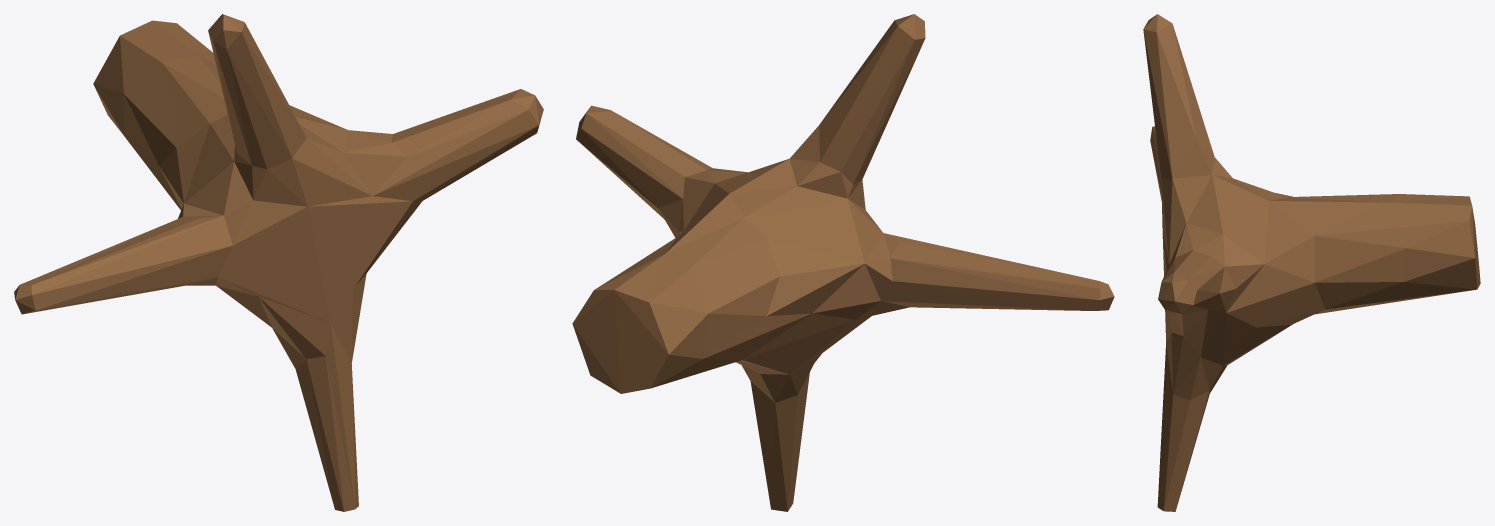
Rendered from Stemp.dae.
The picture shows the model from 3 angles, left to right: view 1: azimuth 30°, elevation 25°; view 2: azimuth 150°, elevation 25°; view 3: azimuth 270°, elevation 25°; orthographic projection. The views are drawn at different scales.
Parts seen in each view (by area): view 1: Cube; view 2: Cube; view 3: Cube.
Boxes of the visible parts, left/top/right/bottom form: Cube: left=14, top=14, right=543, bottom=511; Cube: left=572, top=14, right=1114, bottom=511; Cube: left=1143, top=14, right=1480, bottom=511.
Size of the model in its own units: 1.76 by 1.14 by 1.66.
Materials: 1 (1 with a texture image).
